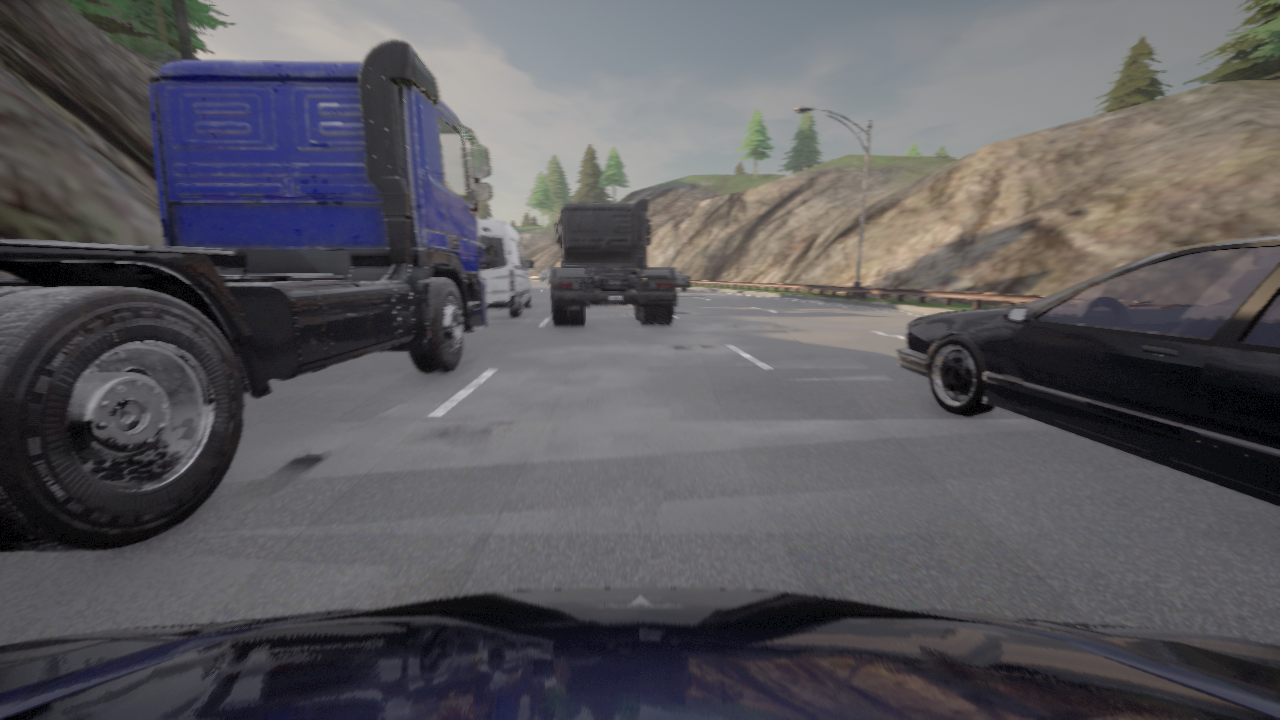cyclist: (0, 40, 491, 553), (0, 588, 1279, 719), (895, 236, 1279, 507), (551, 200, 676, 326), (477, 219, 533, 317), (675, 271, 690, 290), (539, 268, 550, 283)
